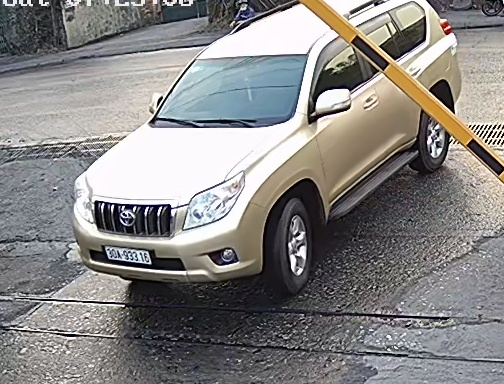vehicle plate: (100, 241, 156, 265)
